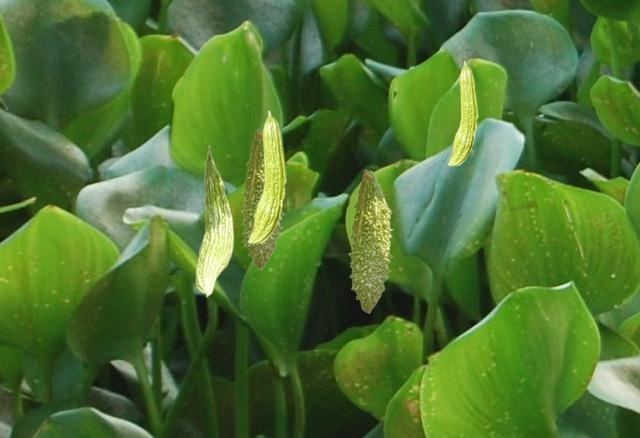ampalaya: (347, 169, 394, 314), (240, 128, 285, 270), (195, 145, 234, 298), (247, 110, 287, 244), (447, 60, 479, 166)
